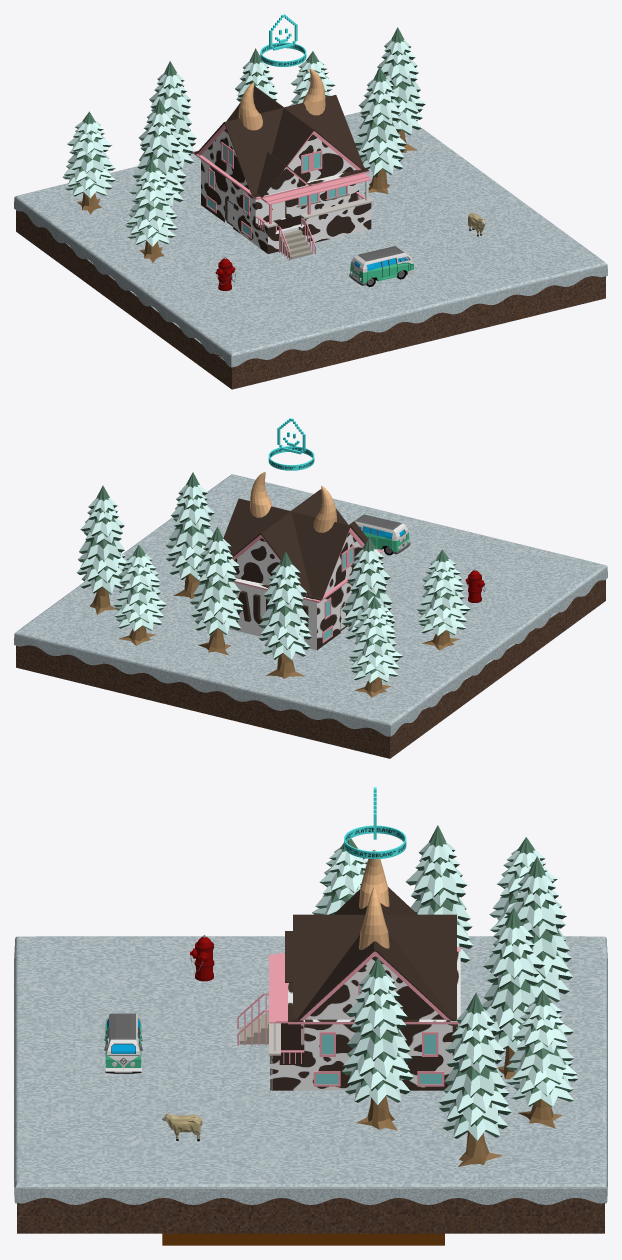
3 views of the same model, one above another, from view 1: azimuth 30°, elevation 25°; view 2: azimuth 150°, elevation 25°; view 3: azimuth 270°, elevation 25° (orthographic). The views are drawn at different scales.
Parts seen in each view (by area): view 1: Cube.003, Cube.1242, VEHICLES_VAN, TYPE_PREMIUM; view 2: Cube.003, Cube.1242, VEHICLES_VAN, TYPE_PREMIUM, OBJRANDOM_FIRE_HYDRANT; view 3: Cube.003, Cube.1242, UNDERGROUND_ART_PIECE_VAN_GOGH, VEHICLES_VAN, TYPE_PREMIUM, OBJRANDOM_FIRE_HYDRANT, ANIMAL_OVEJA.
Part boxes in pixels (x1=…): Cube.003: x1=14, y1=27, x2=607, y2=389; Cube.1242: x1=193, y1=68, x2=373, y2=260; VEHICLES_VAN: x1=349, y1=246, x2=415, y2=286; TYPE_PREMIUM: x1=260, y1=14, x2=306, y2=66; Cube.003: x1=14, y1=472, x2=607, y2=758; Cube.1242: x1=223, y1=472, x2=385, y2=650; VEHICLES_VAN: x1=354, y1=514, x2=410, y2=555; TYPE_PREMIUM: x1=268, y1=418, x2=314, y2=470; OBJRANDOM_FIRE_HYDRANT: x1=465, y1=569, x2=485, y2=602; Cube.003: x1=14, y1=825, x2=607, y2=1233; Cube.1242: x1=237, y1=849, x2=460, y2=1090; UNDERGROUND_ART_PIECE_VAN_GOGH: x1=162, y1=1233, x2=444, y2=1245; VEHICLES_VAN: x1=104, y1=1013, x2=142, y2=1073; TYPE_PREMIUM: x1=344, y1=787, x2=406, y2=859; OBJRANDOM_FIRE_HYDRANT: x1=190, y1=935, x2=214, y2=981; ANIMAL_OVEJA: x1=162, y1=1113, x2=202, y2=1141.
Bounding box in the file's own units: 4040 × 2593 × 4040.
39 materials, 5 textured.
